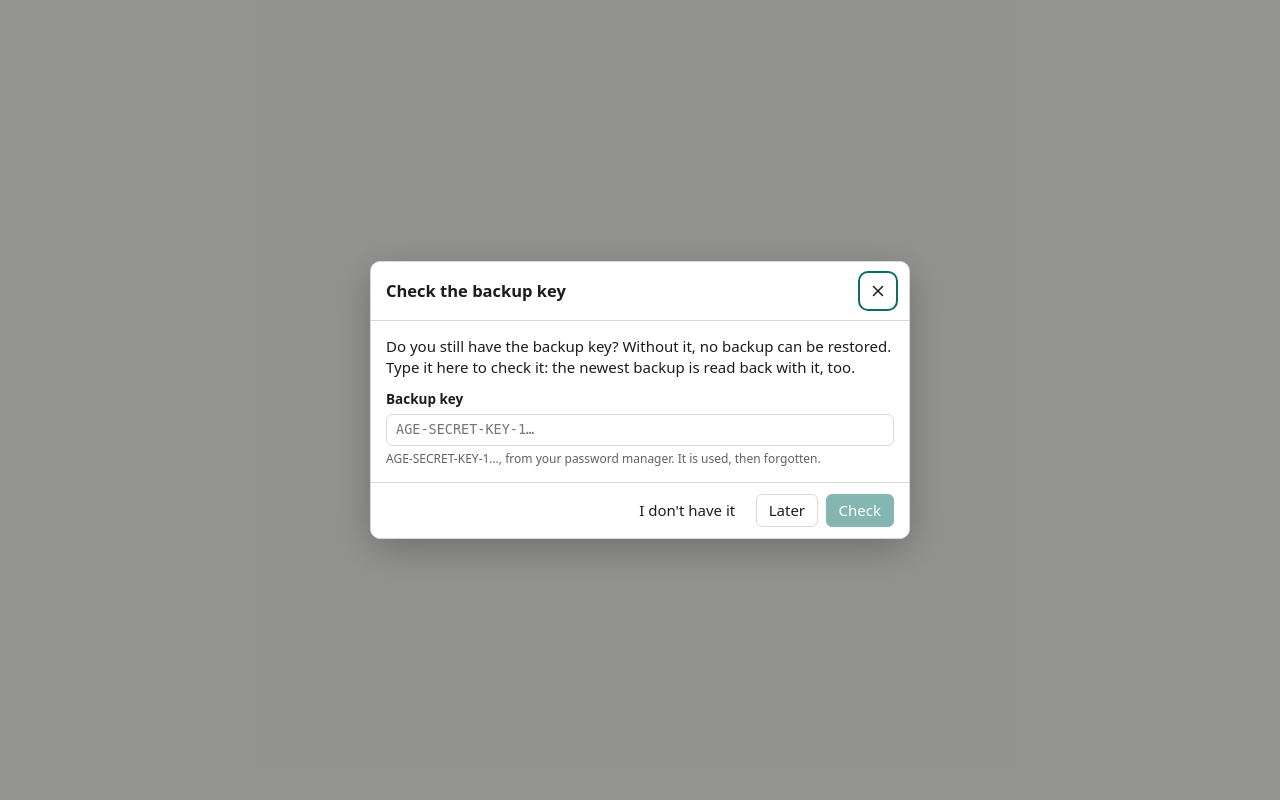
Test: KeyCheckDialog › as a reminder, closes even when Later fails
Click the button named "Close" at (878, 291), box [862, 274, 894, 307]
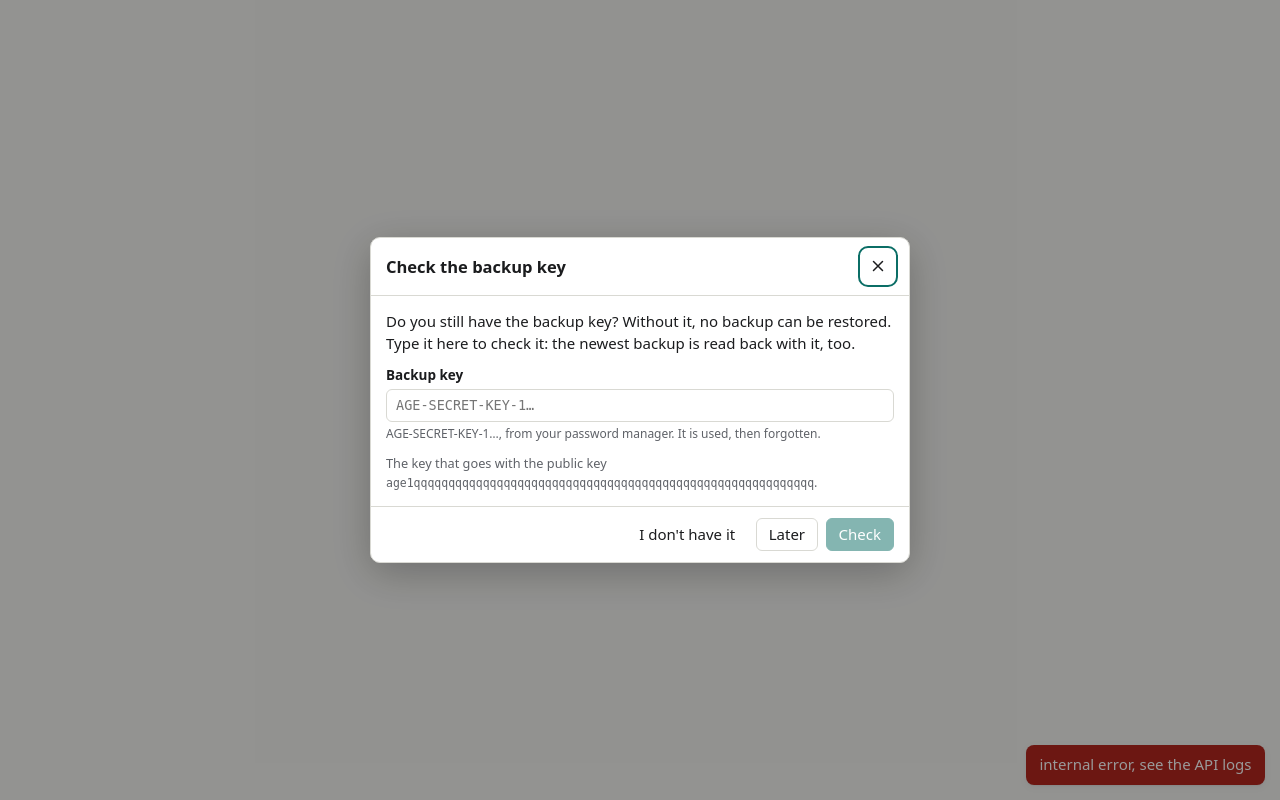
Check: the text "internal error, see the API logs" is shown, box [1026, 745, 1265, 785]
